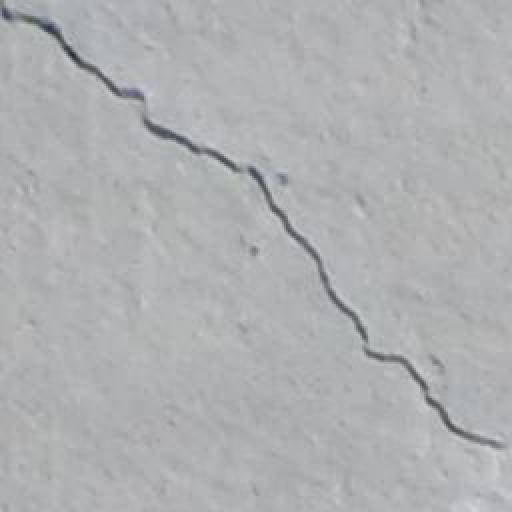spalling: (2, 6, 507, 466)
